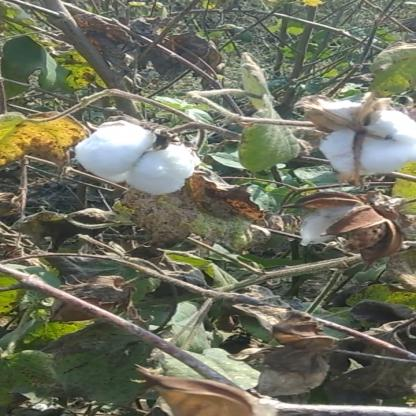cotton_ready: (78, 118, 206, 199), (286, 100, 416, 176)
